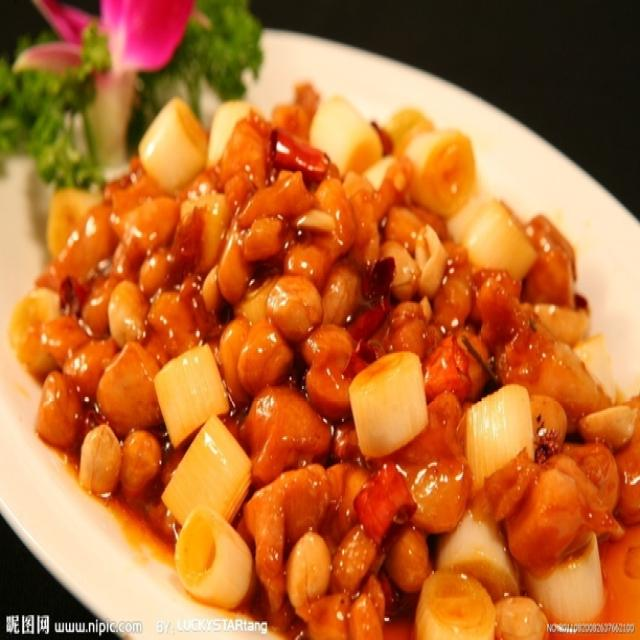鸡肉料理 含炸鸡: (13, 50, 628, 634)
